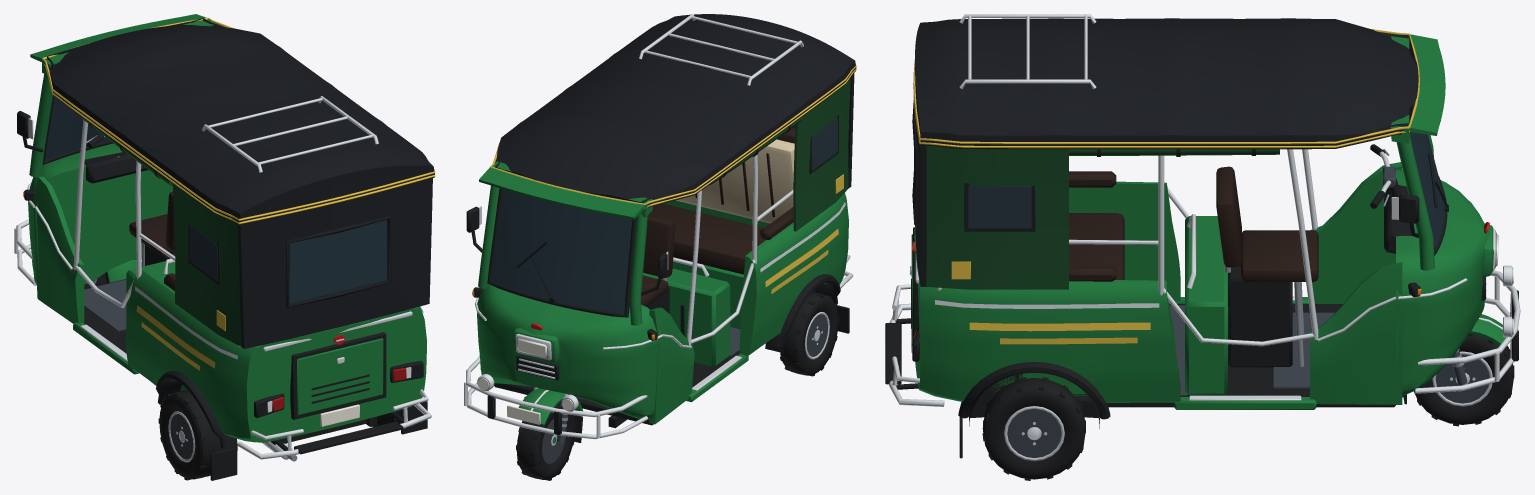
The model's file is rickshaw.glb.
3 renders of one model, left to right at view 1: azimuth 30°, elevation 25°; view 2: azimuth 150°, elevation 25°; view 3: azimuth 270°, elevation 25°, orthographic. The views are drawn at different scales.
Visible parts, largest first — view 1: canopy_roof, canopy_rear, rear_body, front_cowl, curtain_quarter_L, rear_win_glass, cowl_cheek_L, rear_hatch_door, wheel_RL, windscreen, rear_win_frame, rear_hatch_seal (+22 smaller); view 2: canopy_roof, front_cowl, windscreen, rear_body, curtain_quarter_L, pass_backrest, driver_bulkhead, pass_cushion, wheel_RL, cowl_cheek_L, sun_visor, wheel_F (+24 smaller); view 3: canopy_roof, rear_body, curtain_quarter_R, front_cowl, cowl_cheek_R, wheel_RR, driver_bulkhead, cowl_cheek_L, driver_seat_pedestal, wheel_F, driver_seat_cushion, floor_pan (+30 smaller).
Part boxes in pixels (x1,y1,x2,y2): canopy_roof: [44, 18, 434, 225]; canopy_rear: [238, 172, 432, 348]; rear_body: [125, 267, 426, 442]; front_cowl: [28, 143, 172, 284]; curtain_quarter_L: [172, 183, 241, 346]; rear_win_glass: [289, 220, 387, 303]; cowl_cheek_L: [34, 176, 84, 323]; rear_hatch_door: [297, 338, 383, 415]; wheel_RL: [158, 389, 217, 480]; windscreen: [44, 97, 109, 161]; rear_win_frame: [286, 215, 391, 308]; rear_hatch_seal: [290, 332, 386, 419]; canopy_roof: [495, 14, 856, 207]; front_cowl: [477, 284, 661, 419]; windscreen: [490, 189, 632, 314]; rear_body: [664, 193, 848, 356]; curtain_quarter_L: [793, 77, 850, 231]; pass_backrest: [676, 139, 794, 223]; driver_bulkhead: [643, 268, 730, 366]; pass_cushion: [648, 203, 765, 274]; wheel_RL: [780, 292, 839, 376]; cowl_cheek_L: [649, 307, 694, 424]; sun_visor: [479, 167, 644, 219]; wheel_F: [516, 401, 576, 480]; canopy_roof: [915, 18, 1418, 149]; rear_body: [914, 181, 1180, 402]; curtain_quarter_R: [926, 146, 1068, 289]; front_cowl: [1396, 169, 1490, 395]; cowl_cheek_R: [1310, 262, 1402, 404]; wheel_RR: [982, 377, 1085, 480]; driver_bulkhead: [1185, 216, 1227, 394]; cowl_cheek_L: [1310, 162, 1402, 303]; driver_seat_pedestal: [1228, 265, 1292, 367]; wheel_F: [1414, 334, 1514, 426]; driver_seat_cushion: [1241, 230, 1318, 281]; floor_pan: [1074, 304, 1395, 407].
Size of the model in its own units: 1.34 by 1.92 by 2.95.
